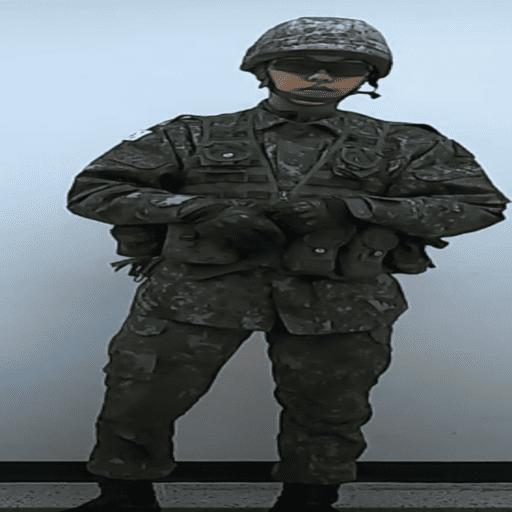korea army: (64, 15, 509, 508)
